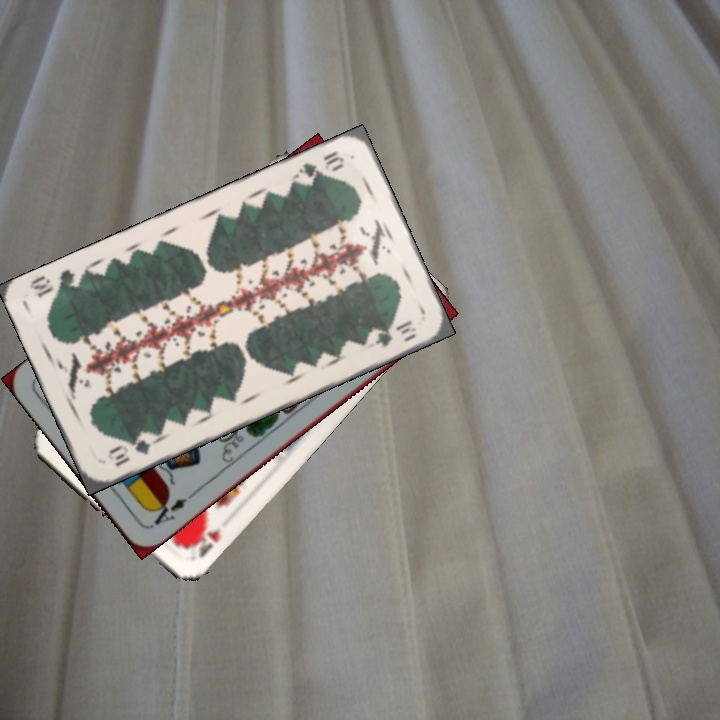EA: (146, 488, 197, 528)
G10: (291, 146, 347, 188), (103, 435, 153, 469)
HK: (182, 520, 225, 561)
